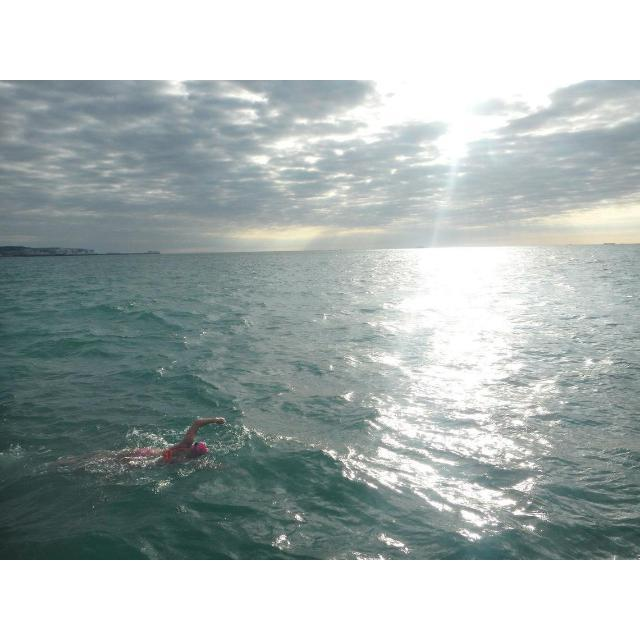human: (135, 412, 223, 465)
